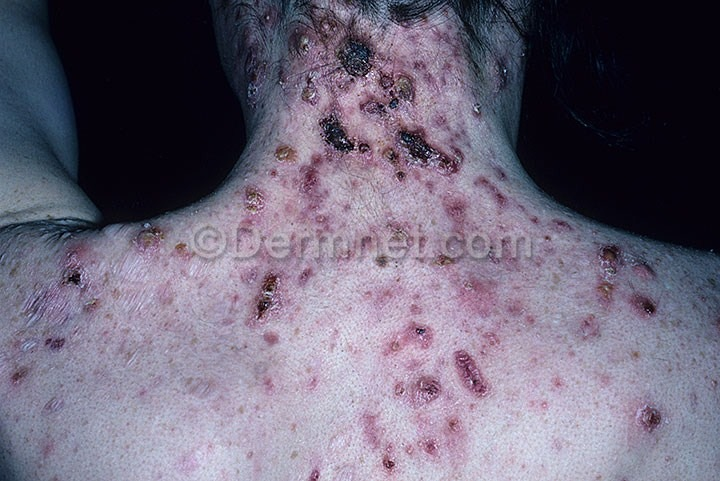Acne: (14, 35, 696, 448)
